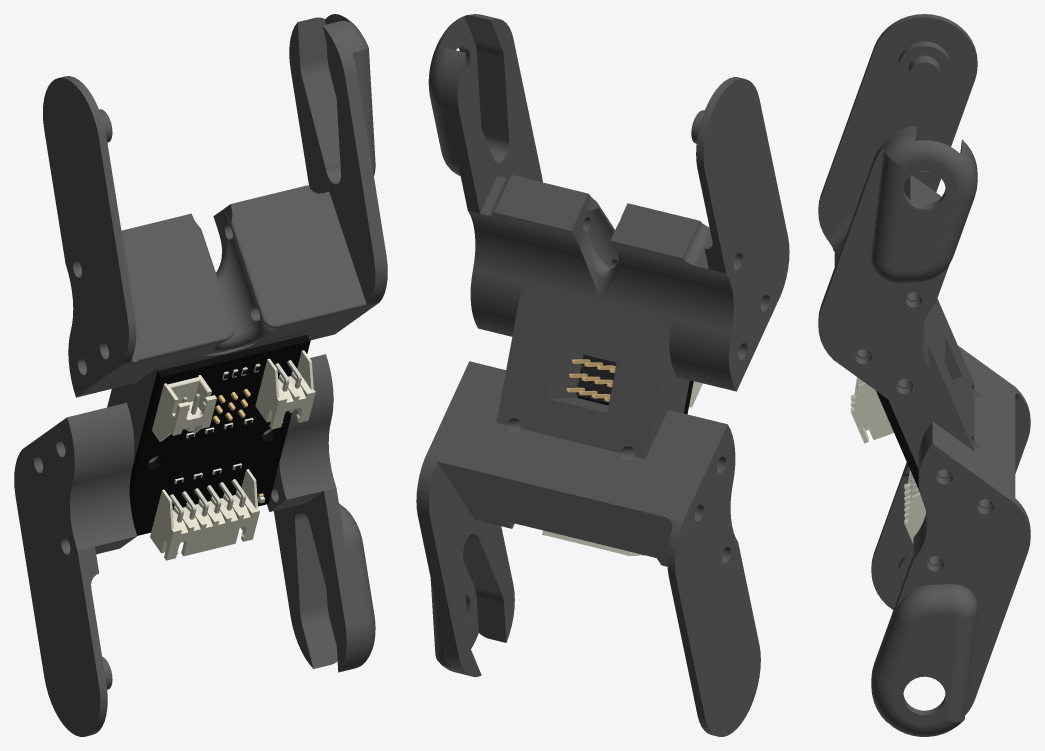
File: Assy_fore_arm.obj
3 views of the same model, side by side, from view 1: azimuth 30°, elevation 25°; view 2: azimuth 150°, elevation 25°; view 3: azimuth 270°, elevation 25° (orthographic). The views are drawn at different scales.
Visible parts, largest first — view 1: ソリッド1:2, ソリッド1:3, ソリッド1, ソリッド1:1, ソリッド1:35, ソリッド1:4, ソリッド1:6, ソリッド1:9, ソリッド1:12; view 2: ソリッド1:2, ソリッド1, ソリッド1:3, ソリッド1:1, ソリッド1:4, ソリッド1:24, ソリッド1:22; view 3: ソリッド1:4, ソリッド1:1, ソリッド1, ソリッド1:2, ソリッド1:3, ソリッド1:9, ソリッド1:6, ソリッド1:35.
Part boxes in pixels (x1=…): ソリッド1:2: x1=84, y1=185, x2=366, y2=554; ソリッド1:3: x1=14, y1=413, x2=112, y2=736; ソリッド1: x1=43, y1=76, x2=137, y2=397; ソリッド1:1: x1=289, y1=14, x2=387, y2=337; ソリッド1:35: x1=129, y1=335, x2=310, y2=535; ソリッド1:4: x1=274, y1=354, x2=375, y2=672; ソリッド1:6: x1=150, y1=469, x2=259, y2=560; ソリッド1:9: x1=255, y1=350, x2=315, y2=429; ソリッド1:12: x1=152, y1=375, x2=216, y2=441; ソリッド1:2: x1=437, y1=175, x2=718, y2=566; ソリッド1: x1=691, y1=77, x2=789, y2=391; ソリッド1:3: x1=666, y1=420, x2=760, y2=736; ソリッド1:1: x1=428, y1=14, x2=542, y2=331; ソリッド1:4: x1=416, y1=361, x2=514, y2=676; ソリッド1:24: x1=578, y1=357, x2=608, y2=401; ソリッド1:22: x1=566, y1=354, x2=595, y2=398; ソリッド1:4: x1=871, y1=438, x2=1030, y2=736; ソリッド1:1: x1=818, y1=126, x2=977, y2=419; ソリッド1: x1=818, y1=14, x2=977, y2=251; ソリッド1:2: x1=834, y1=175, x2=1015, y2=565; ソリッド1:3: x1=871, y1=345, x2=1030, y2=609; ソリッド1:9: x1=850, y1=377, x2=893, y2=443; ソリッド1:6: x1=904, y1=470, x2=926, y2=543; ソリッド1:35: x1=876, y1=391, x2=919, y2=491.
Bounding box in the file's own units: 0.057 × 0.125 × 0.04.
